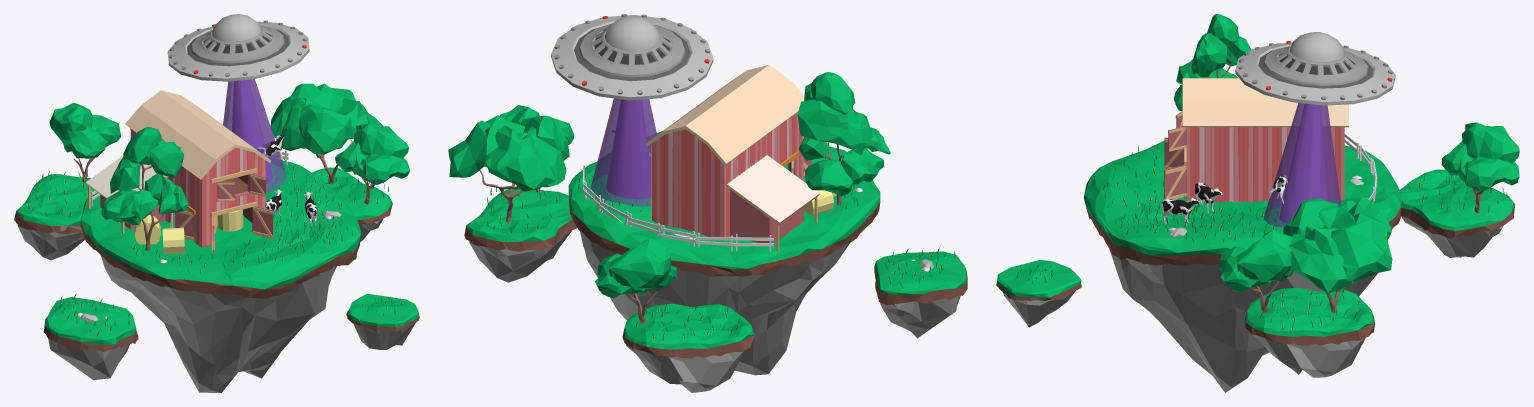
File: land_62.fbx
3 renders of one model, left to right at view 1: azimuth 30°, elevation 25°; view 2: azimuth 150°, elevation 25°; view 3: azimuth 270°, elevation 25°, orthographic. The views are drawn at different scales.
Parts seen in each view (by area): view 1: polySurface2895, polySurface2898, land_62.048, land_63.134, polySurface2892, land_63.133, polySurface2894.001, land_63.132, land_62.002, polySurface2893, land_63.001, polySurface2894 (+4 smaller); view 2: polySurface2895, polySurface2898, land_62.048, polySurface2894.001, land_63.134, land_63.133, polySurface2894, polySurface2892, land_62.002, land_63.001, land_63.132, land_62.051; view 3: polySurface2895, polySurface2898, land_62.048, polySurface2894, land_63.133, polySurface2894.001, land_62.002, land_63.001, polySurface2893, land_63.132, land_63.134, land_62.060.
Boxes of the visible parts, bbox=[...] form: polySurface2895: bbox=[80, 160, 360, 392]; polySurface2898: bbox=[86, 90, 273, 253]; land_62.048: bbox=[167, 14, 309, 81]; land_63.134: bbox=[101, 126, 188, 250]; polySurface2892: bbox=[43, 297, 138, 380]; land_63.133: bbox=[270, 83, 383, 184]; polySurface2894.001: bbox=[14, 174, 94, 260]; land_63.132: bbox=[335, 123, 410, 204]; land_62.002: bbox=[223, 79, 285, 192]; polySurface2893: bbox=[346, 293, 419, 349]; land_63.001: bbox=[49, 102, 120, 182]; polySurface2894: bbox=[312, 167, 392, 241]; polySurface2895: bbox=[568, 131, 880, 375]; polySurface2898: bbox=[645, 64, 819, 250]; land_62.048: bbox=[551, 14, 713, 100]; polySurface2894.001: bbox=[622, 303, 754, 392]; land_63.134: bbox=[797, 72, 890, 205]; land_63.133: bbox=[448, 115, 569, 222]; polySurface2894: bbox=[464, 187, 576, 282]; polySurface2892: bbox=[874, 251, 967, 338]; land_62.002: bbox=[590, 98, 656, 206]; land_63.001: bbox=[595, 238, 676, 323]; land_63.132: bbox=[500, 105, 574, 192]; land_62.051: bbox=[804, 190, 833, 215]; polySurface2895: bbox=[1084, 141, 1401, 392]; polySurface2898: bbox=[1164, 78, 1348, 202]; land_62.048: bbox=[1235, 32, 1395, 105]; polySurface2894: bbox=[1244, 287, 1375, 377]; land_63.133: bbox=[1283, 197, 1392, 312]; polySurface2894.001: bbox=[1399, 169, 1515, 257]; land_62.002: bbox=[1263, 103, 1340, 227]; land_63.001: bbox=[1441, 122, 1519, 212]; polySurface2893: bbox=[996, 260, 1081, 327]; land_63.132: bbox=[1218, 230, 1293, 312]; land_63.134: bbox=[1173, 14, 1251, 110]; land_62.060: bbox=[1161, 197, 1200, 225].
Size of the model in its own units: 27.53 by 21.96 by 28.33.
